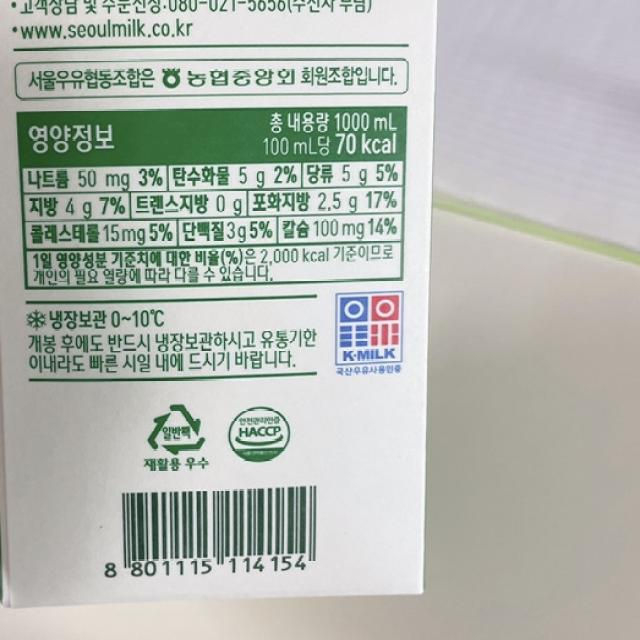NormalPack: (143, 397, 207, 460)
